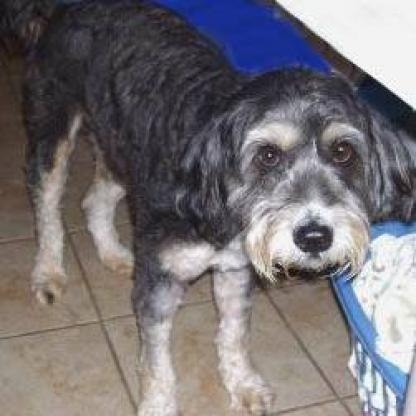dog: (105, 78, 382, 335)
